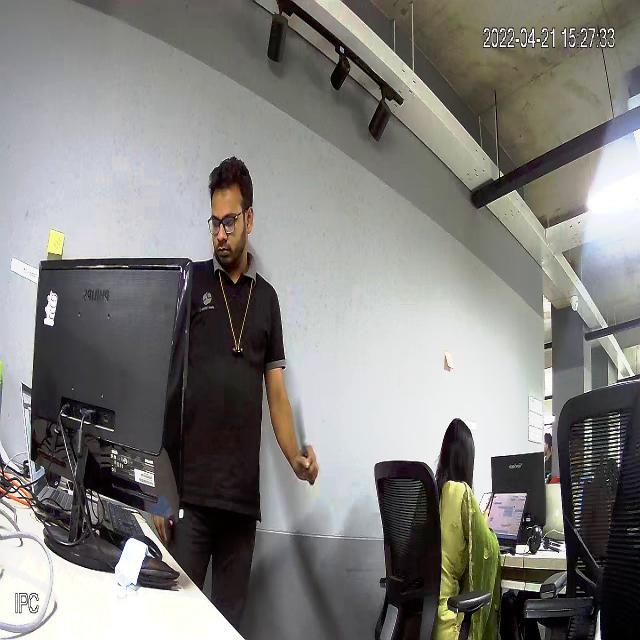Knife: (279, 379, 321, 487)
